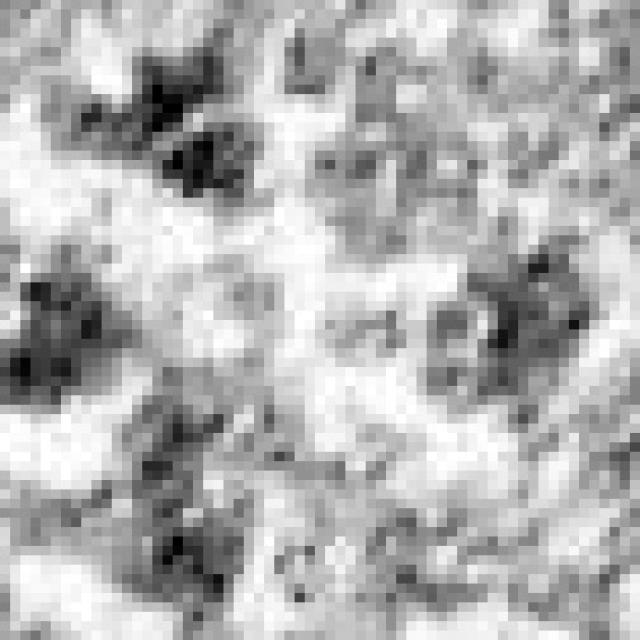inner: (135, 215, 421, 400)
lobe: (48, 363, 269, 612), (50, 44, 264, 205), (423, 249, 611, 419), (275, 460, 478, 605), (306, 101, 490, 258), (2, 252, 145, 411)
outer: (0, 0, 640, 640)
